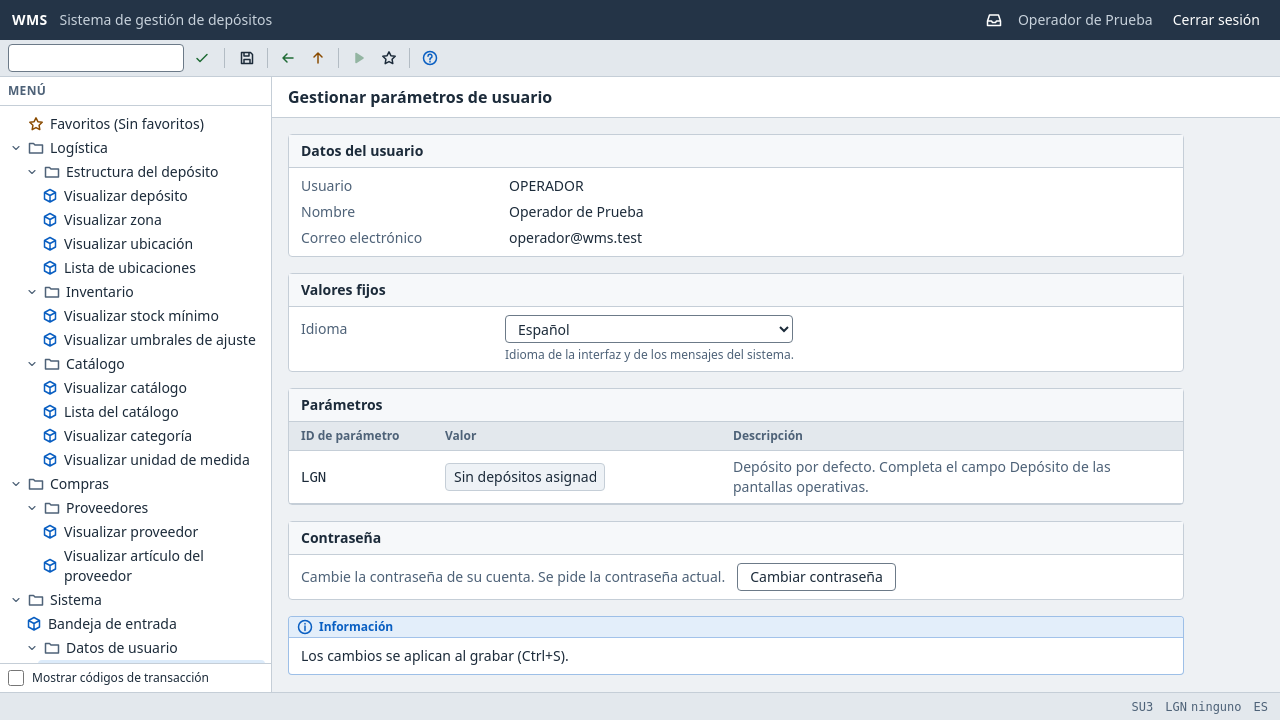
cambio de contraseña obligatorio (REG-021) › un 403 PASSWORD_CHANGE_REQUIRED a mitad de la sesión vuelve al cambio
The width and height of the screenshot is (1280, 720).
Click the button named "Favorito" at coordinates (389, 58), box [375,44,403,72]
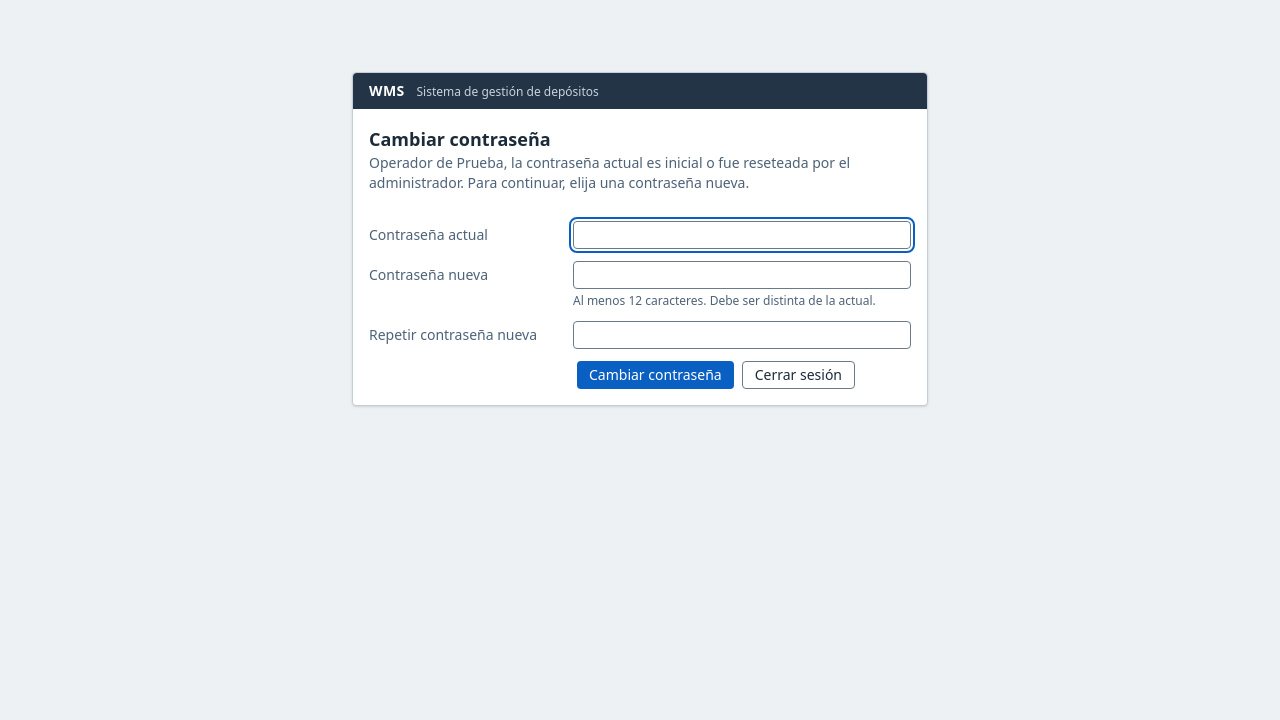
Check: the password field labelled "Contraseña actual" is shown, box [573,221,911,249]
